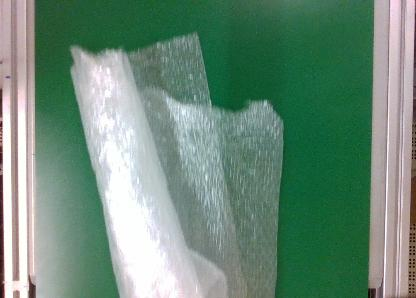Others: (69, 30, 282, 298)
